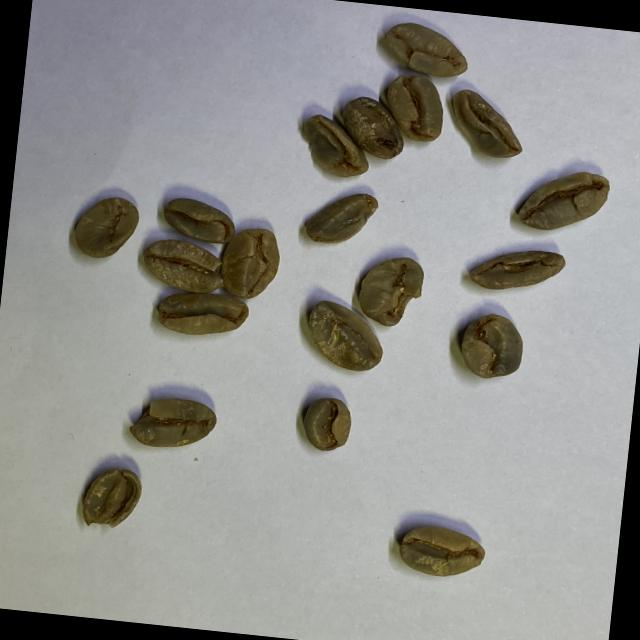bad: (513, 162, 614, 238), (297, 296, 389, 376), (374, 15, 474, 82), (351, 248, 430, 332), (124, 390, 222, 457), (444, 84, 530, 160), (392, 518, 491, 584), (464, 240, 571, 300), (452, 306, 529, 384), (294, 112, 376, 184), (152, 284, 252, 343), (215, 222, 285, 306), (66, 190, 142, 264), (333, 92, 409, 166), (136, 234, 228, 295), (299, 184, 384, 250), (76, 460, 146, 534), (378, 72, 448, 144), (157, 192, 240, 246), (296, 392, 356, 456)
